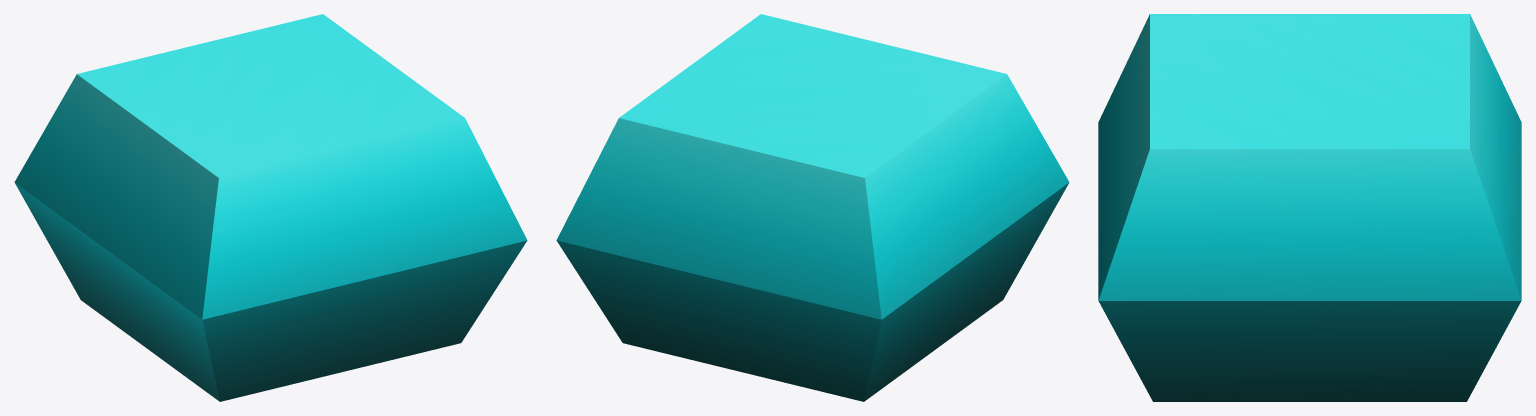
Rendered from Gem_Turquoise.fbx.
The picture shows the model from 3 angles, left to right: view 1: azimuth 30°, elevation 25°; view 2: azimuth 150°, elevation 25°; view 3: azimuth 270°, elevation 25°; orthographic projection. The views are drawn at different scales.
Visible parts, largest first — view 1: Gem_Turquoise; view 2: Gem_Turquoise; view 3: Gem_Turquoise.
Part boxes in pixels (left/top/right/bottom): Gem_Turquoise: left=14, top=14, right=527, bottom=401; Gem_Turquoise: left=556, top=14, right=1069, bottom=401; Gem_Turquoise: left=1098, top=14, right=1521, bottom=401.
Size of the model in its own units: 7.34 by 4.86 by 7.34.
